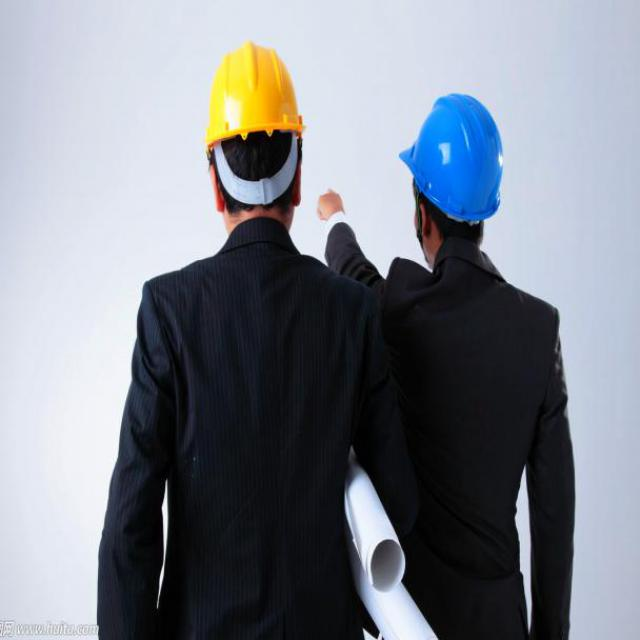helmet: (191, 34, 310, 235), (403, 81, 504, 253)
